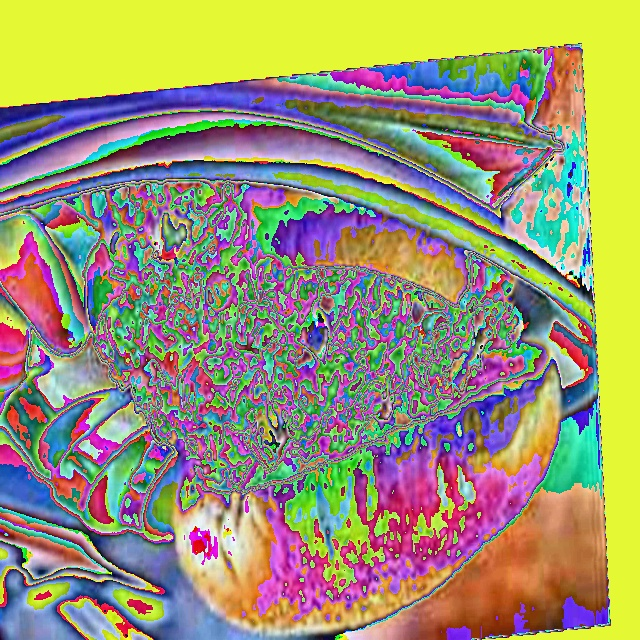background: (0, 183, 563, 638)
